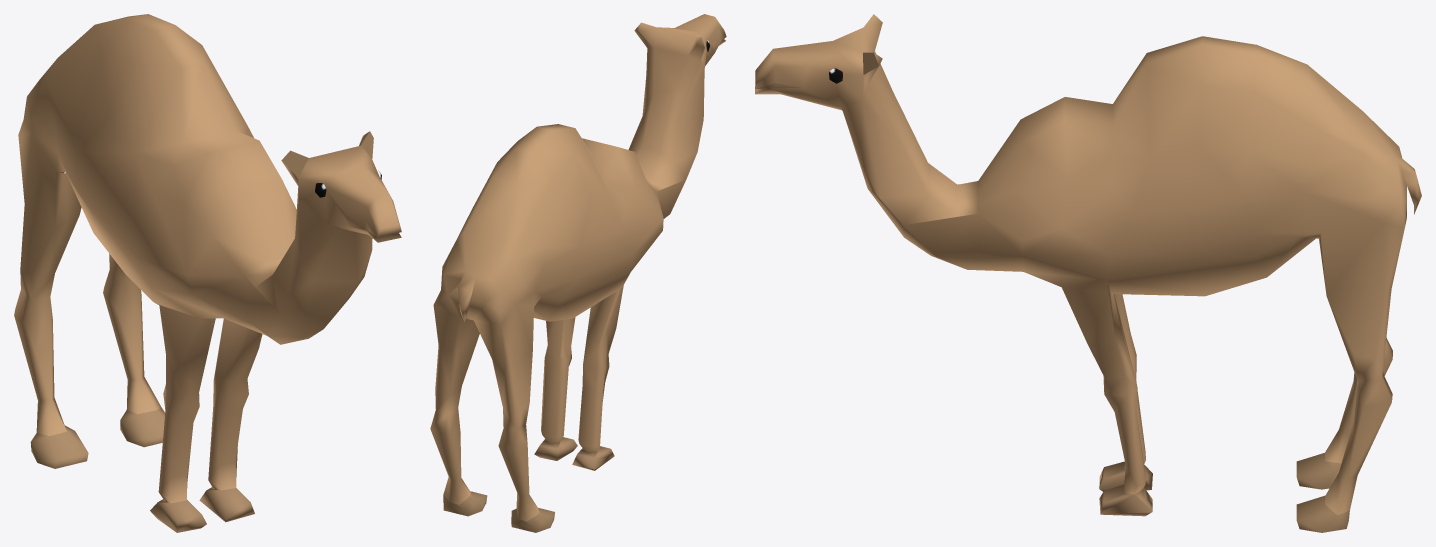
The picture shows the model from 3 angles, left to right: view 1: azimuth 30°, elevation 25°; view 2: azimuth 150°, elevation 25°; view 3: azimuth 270°, elevation 25°; orthographic projection. The views are drawn at different scales.
Parts seen in each view (by area): view 1: Camel; view 2: Camel; view 3: Camel.
Boxes of the visible parts, left/top/right/bottom form: Camel: left=14, top=14, right=401, bottom=532; Camel: left=430, top=14, right=726, bottom=532; Camel: left=755, top=14, right=1421, bottom=532.
Size of what is drawn, in the model's own units: 0.6219 by 1.99 by 2.58.
Materials: 1 (1 with a texture image).
